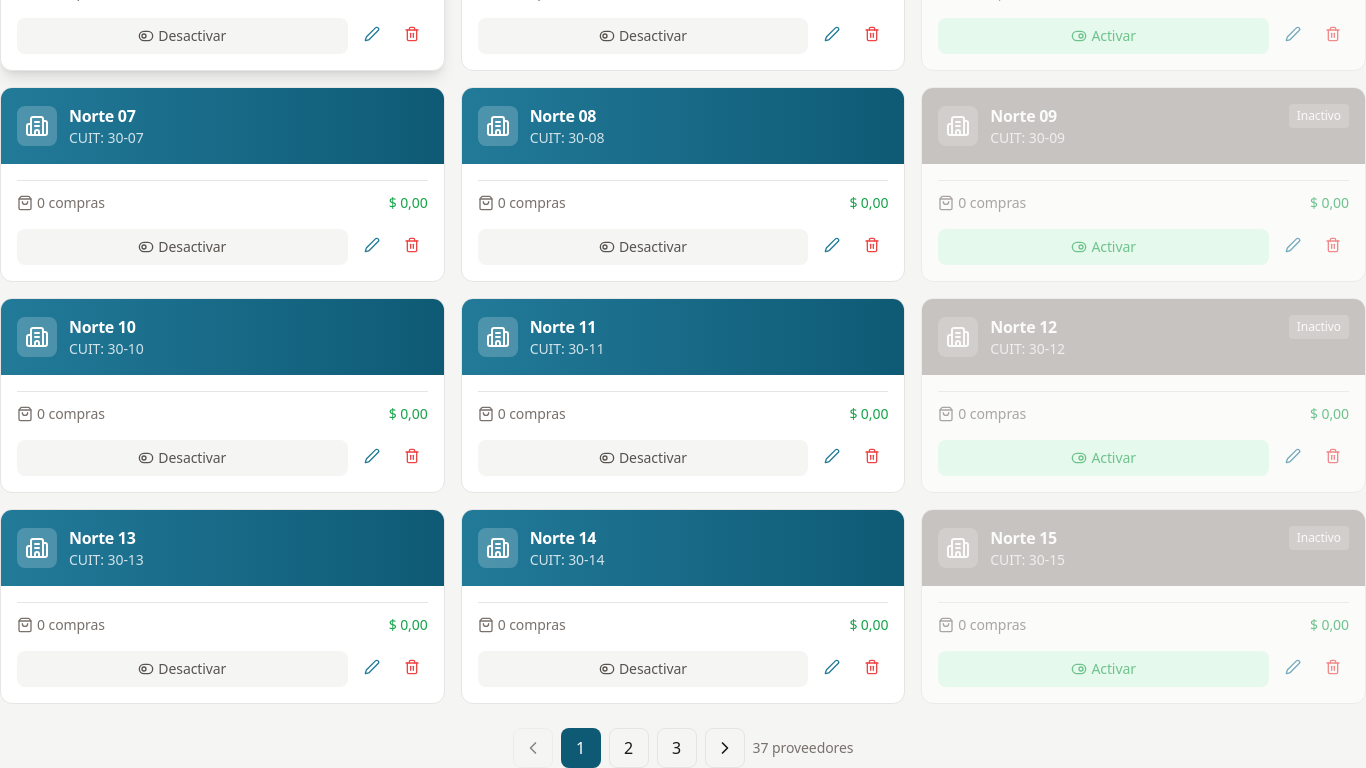
Test: VistaProveedores — los filtros vuelven a la pagina 1 › "Activos" desde la pagina 2 vuelve a la 1 (25 activos: siguen siendo 2 paginas)
(page scrolled)
Click the button named "Página siguiente" at (724, 748), box [704,728,744,767]
(page scrolled)
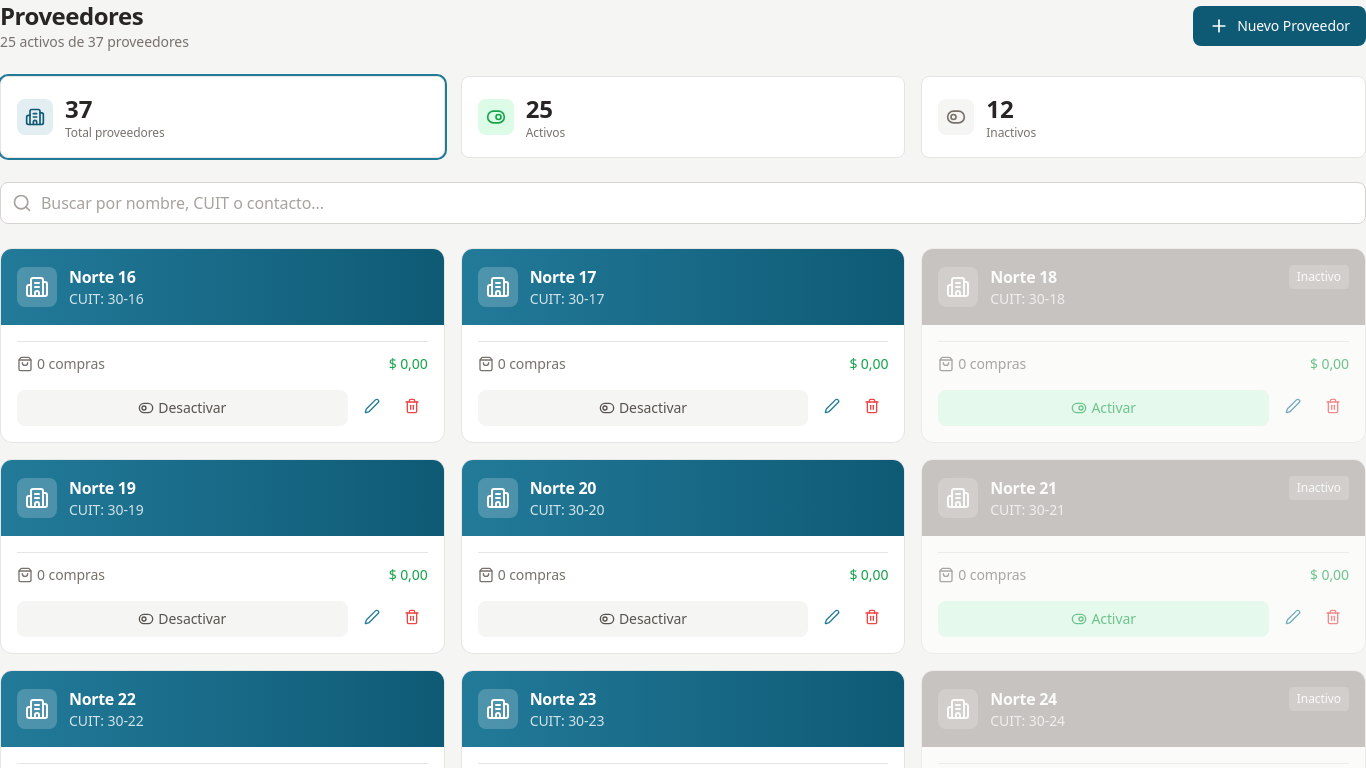
Click the text "Activos" at (545, 133), box [526,125,565,141]
(page scrolled)
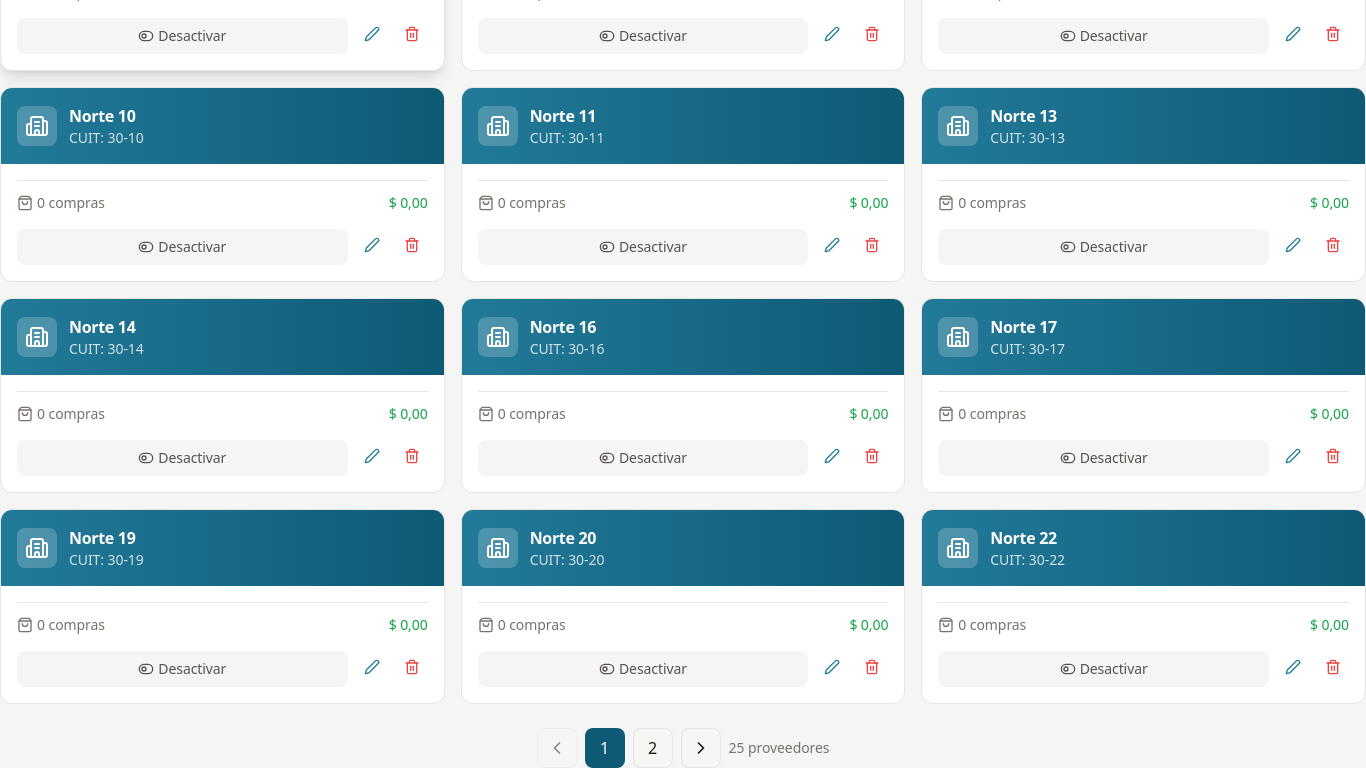
Expected: the button named "Página anterior" is disabled, [536,728,576,767]
Expected: the text "25 proveedores" is shown, [728,738,829,758]
